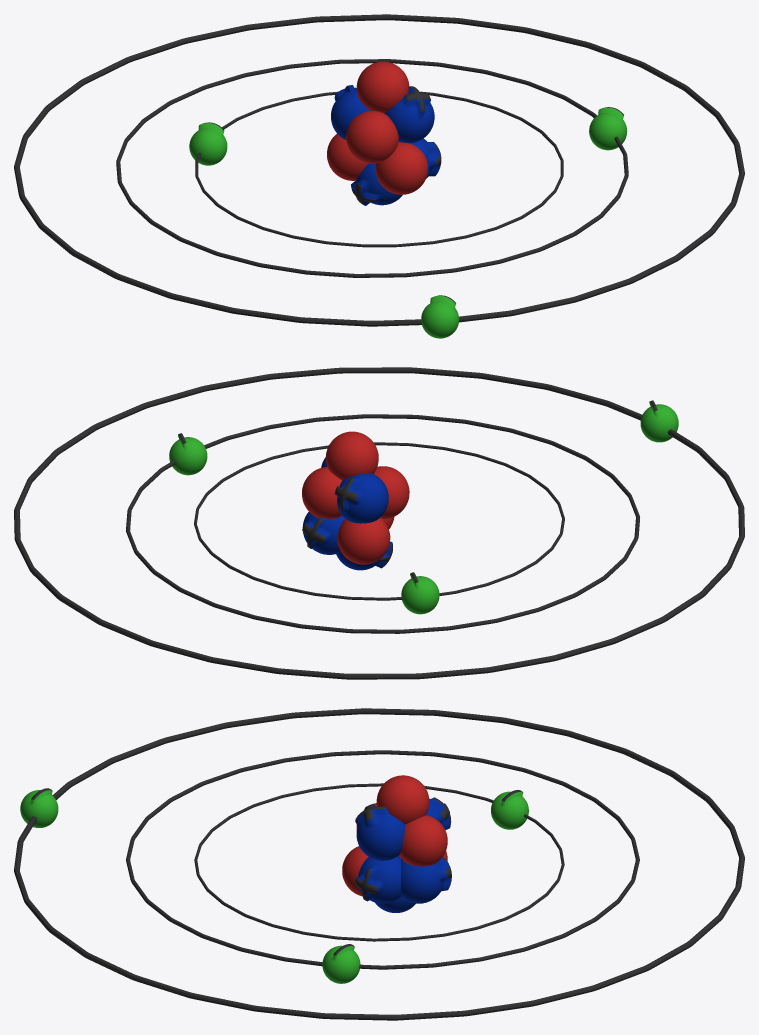
3 views of the same model, one above another, from view 1: azimuth 30°, elevation 25°; view 2: azimuth 150°, elevation 25°; view 3: azimuth 270°, elevation 25° (orthographic).
Visible parts, largest first — view 1: Circle; view 2: Circle; view 3: Circle.
Part boxes in pixels (<box>): Circle: <box>14,14,744,338</box>; Circle: <box>14,367,744,679</box>; Circle: <box>14,708,744,1020</box>.
Bounding box in the file's own units: 27.61 × 5.63 × 27.61.
